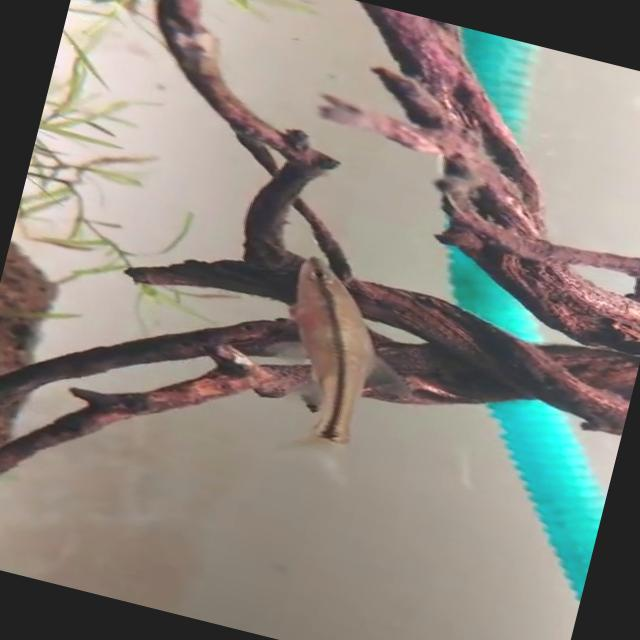Cakil Baligi: (251, 250, 432, 488)
